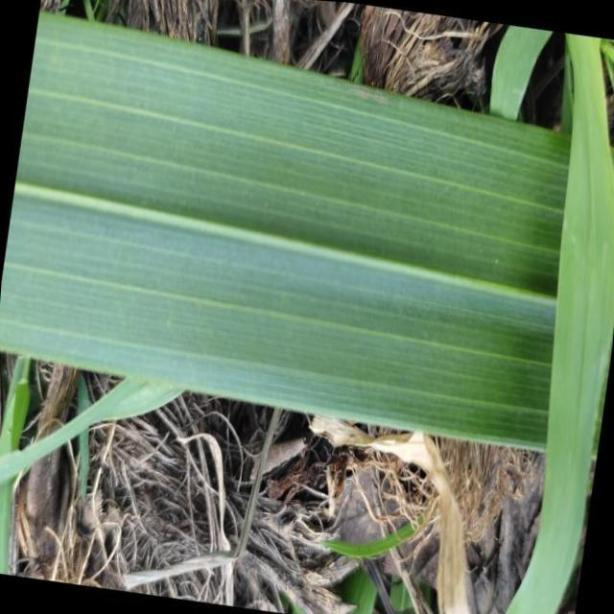Healthy: (0, 11, 614, 454)
